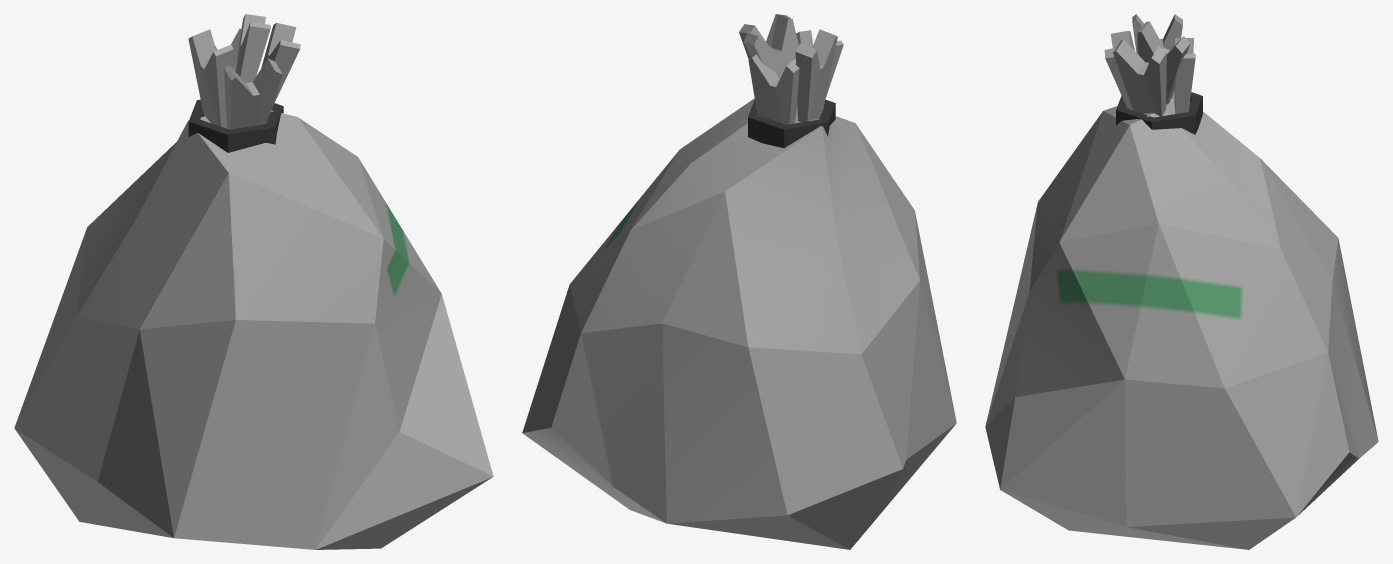
Rendered from obj_garbage_002.FBX.
The picture shows the model from 3 angles, left to right: view 1: azimuth 30°, elevation 25°; view 2: azimuth 150°, elevation 25°; view 3: azimuth 270°, elevation 25°; orthographic projection. The views are drawn at different scales.
Parts seen in each view (by area): view 1: obj_garbage_002; view 2: obj_garbage_002; view 3: obj_garbage_002.
Part boxes in pixels (x1,y1,x2,y2): obj_garbage_002: [14, 14, 493, 549]; obj_garbage_002: [522, 14, 956, 549]; obj_garbage_002: [985, 14, 1378, 549].
Size of the model in its own units: 73.94 by 94.51 by 70.73.
